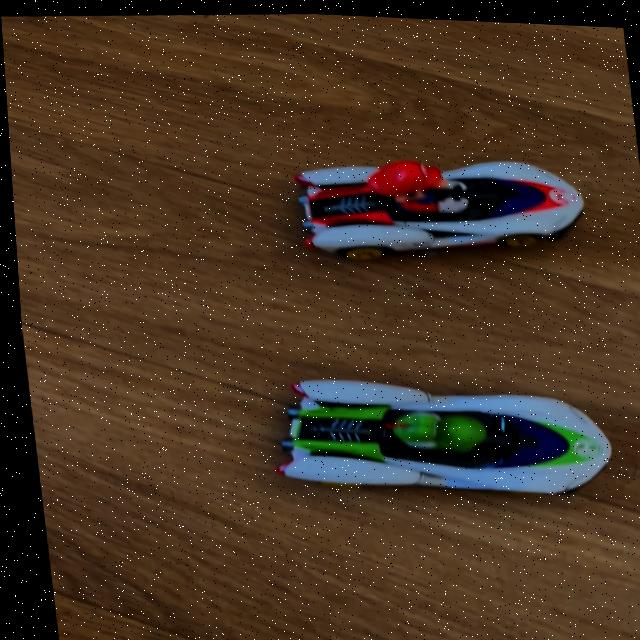mario: (246, 126, 604, 275)
yoshi: (244, 351, 630, 515)
